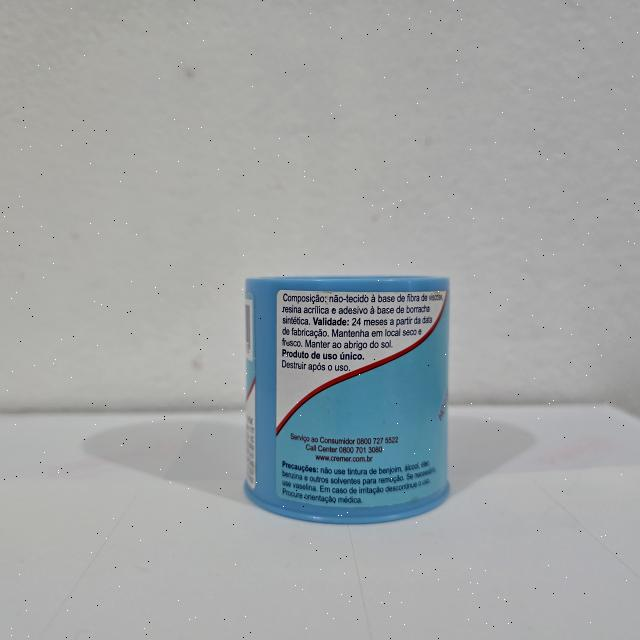procitex: (237, 271, 454, 529)
